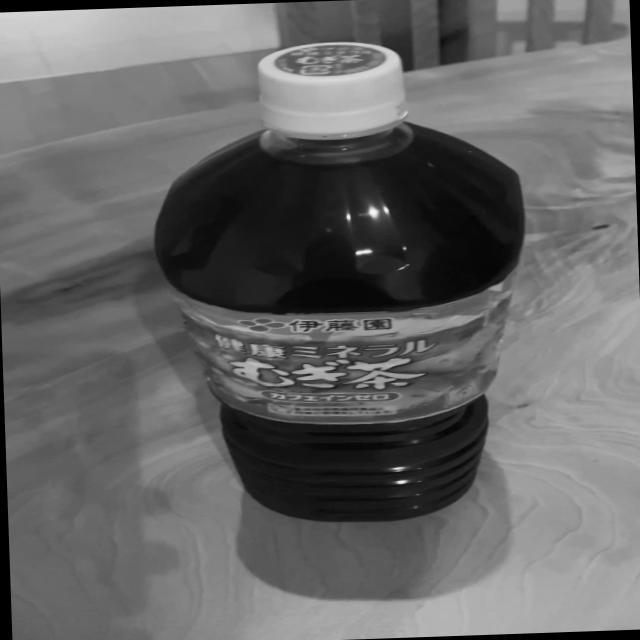good: (141, 34, 534, 530)
